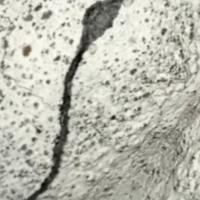crack: (13, 4, 151, 198)
